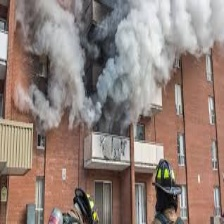smoke: (40, 4, 184, 132)
